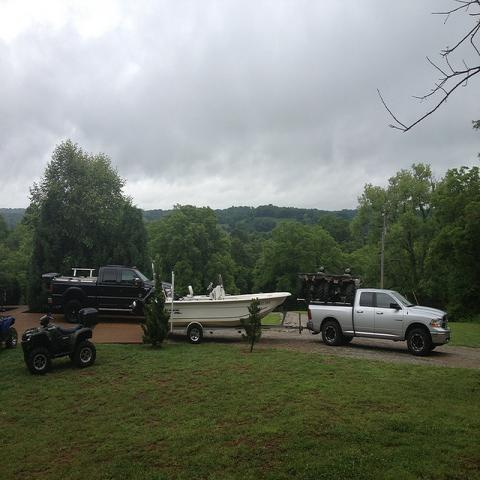motorcycle: (20, 308, 99, 372)
truck: (306, 288, 452, 356), (51, 268, 171, 322)
